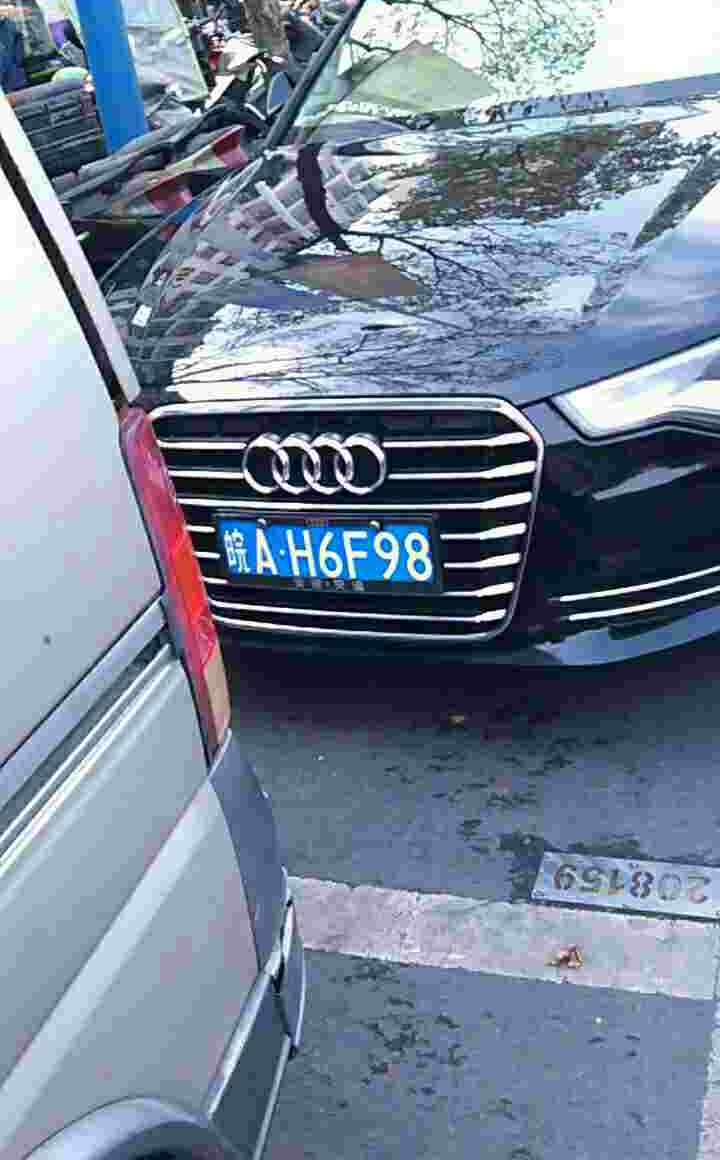license_plate: (217, 519, 457, 590)
